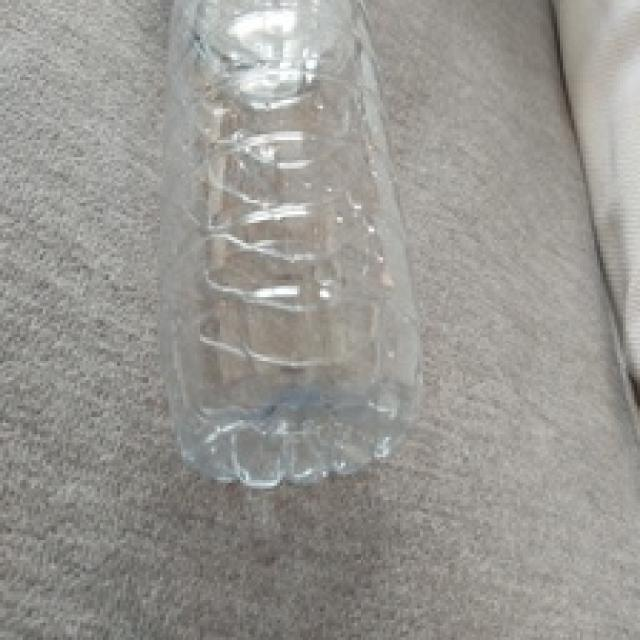Plastic: (167, 0, 423, 486)
